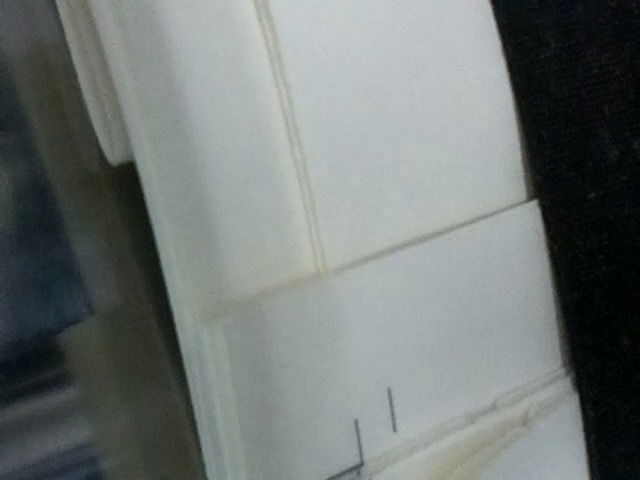not_sure: (312, 421, 376, 480)
